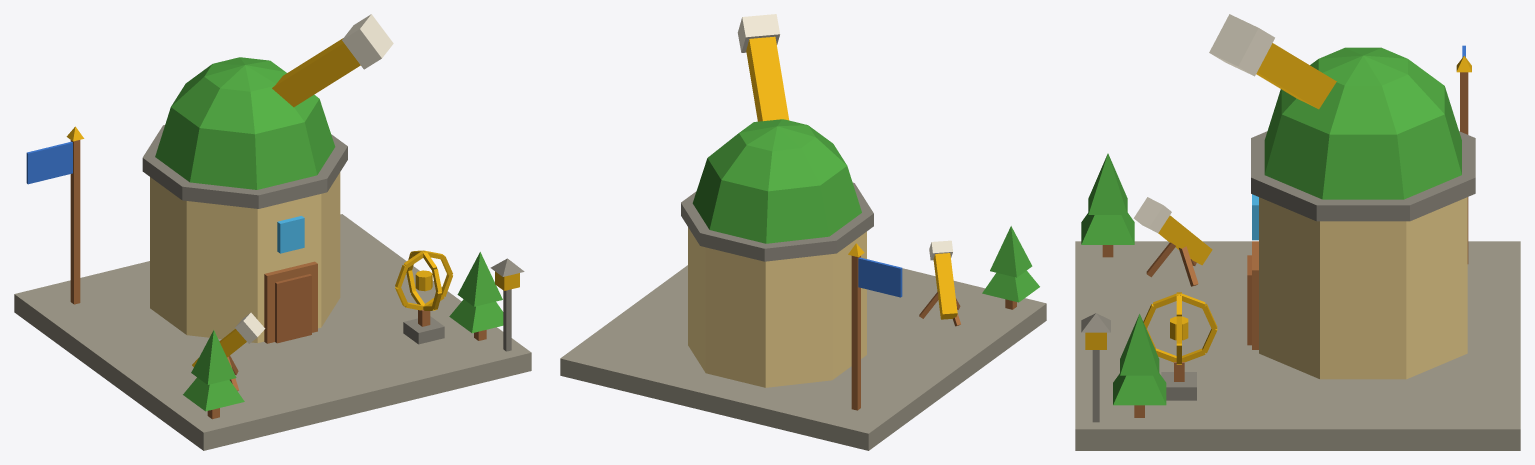
Rendered from observatory_t2_v2.glb.
3 renders of one model, left to right at view 1: azimuth 30°, elevation 25°; view 2: azimuth 150°, elevation 25°; view 3: azimuth 270°, elevation 25°, orthographic. The views are drawn at different scales.
Parts seen in each view (by area): view 1: observatory_t2_v2; view 2: observatory_t2_v2; view 3: observatory_t2_v2.
Boxes of the visible parts, <box> form: observatory_t2_v2: <box>14,14,531,450</box>; observatory_t2_v2: <box>560,14,1046,450</box>; observatory_t2_v2: <box>1075,14,1520,450</box>.
Bounding box in the file's own units: 0.775 × 0.6989 × 0.75.
Materials: 1 (1 with a texture image).
